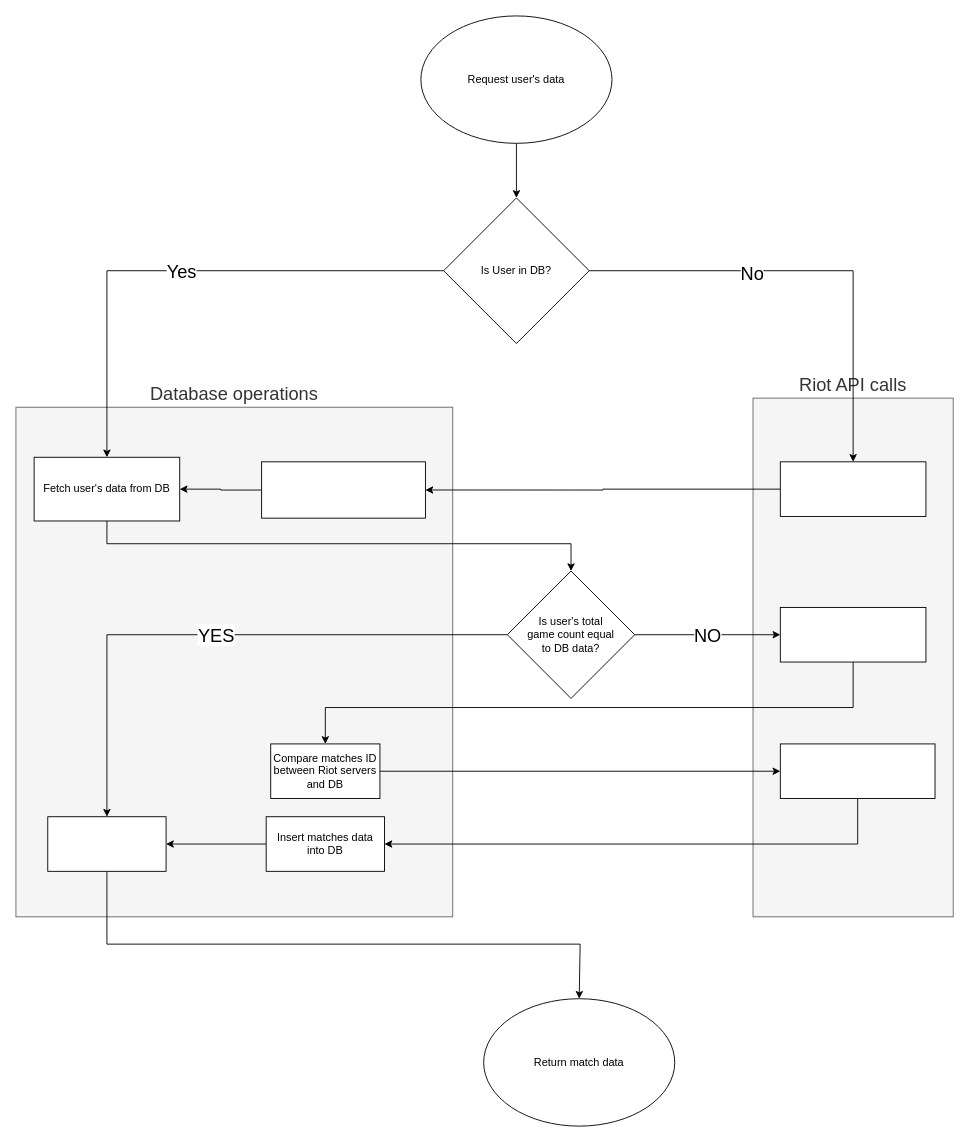
The diagram is 969 pixels wide and 1142 high, and some of its shapes have lost their labels. The box of each missing label's shape, as (x1, y1, x2, y2) in pixels:
Fetch all matches data that are not in DB: (779, 743, 935, 799)
Fetch all matches ID user participated in: (779, 607, 926, 662)
Fetch matches data Default to 10: (47, 816, 166, 871)
Fetch summoner data: (779, 461, 926, 516)
Save user's info accountId, profileIconId, summonerLevel, tier, rank, totalGames: (261, 461, 425, 518)
